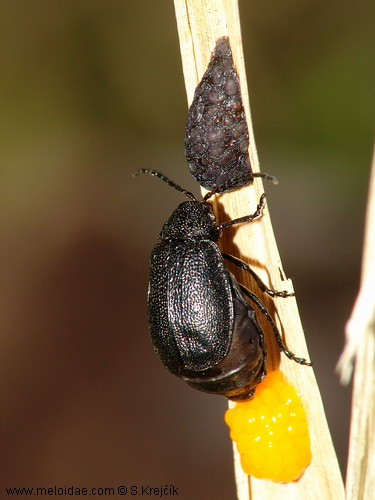Galeruca_tanaceti: (130, 163, 317, 402)
